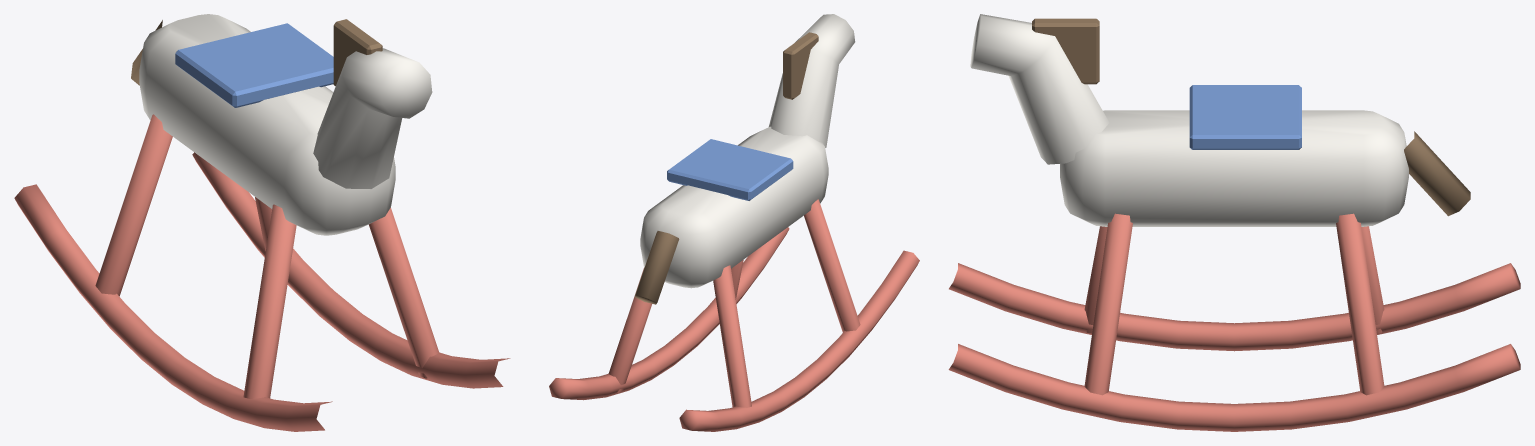
File: rocking_horse.glb
The picture shows the model from 3 angles, left to right: view 1: azimuth 30°, elevation 25°; view 2: azimuth 150°, elevation 25°; view 3: azimuth 270°, elevation 25°; orthographic projection. The views are drawn at different scales.
Parts seen in each view (by area): view 1: rocking_horse; view 2: rocking_horse; view 3: rocking_horse.
Boxes of the visible parts, x1=… form: rocking_horse: x1=14, y1=14, x2=510, y2=431; rocking_horse: x1=549, y1=14, x2=919, y2=431; rocking_horse: x1=948, y1=14, x2=1520, y2=431.
Size of the model in its own units: 0.39 by 0.7307 by 1.02.
